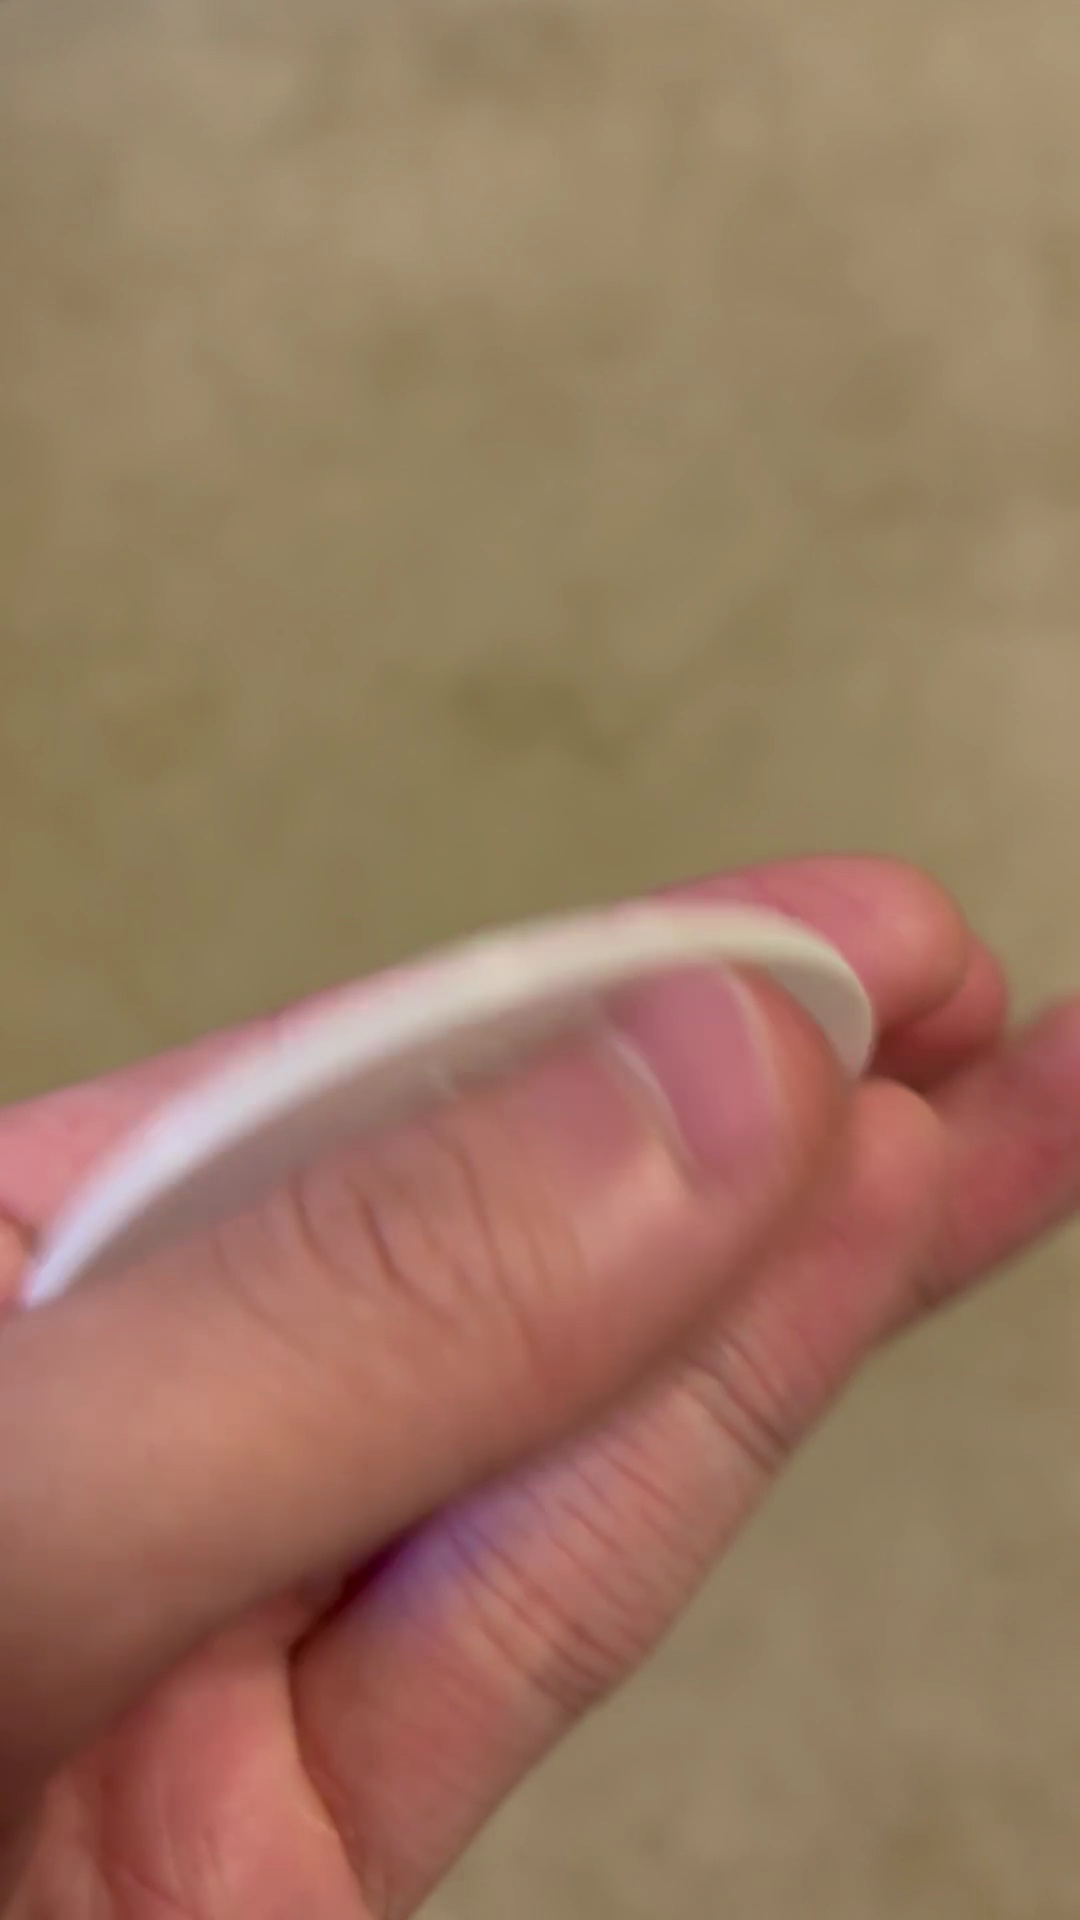Part1: (23, 901, 872, 1305)
